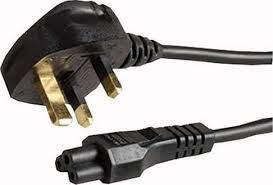cable: (1, 1, 273, 126), (56, 119, 273, 184)
